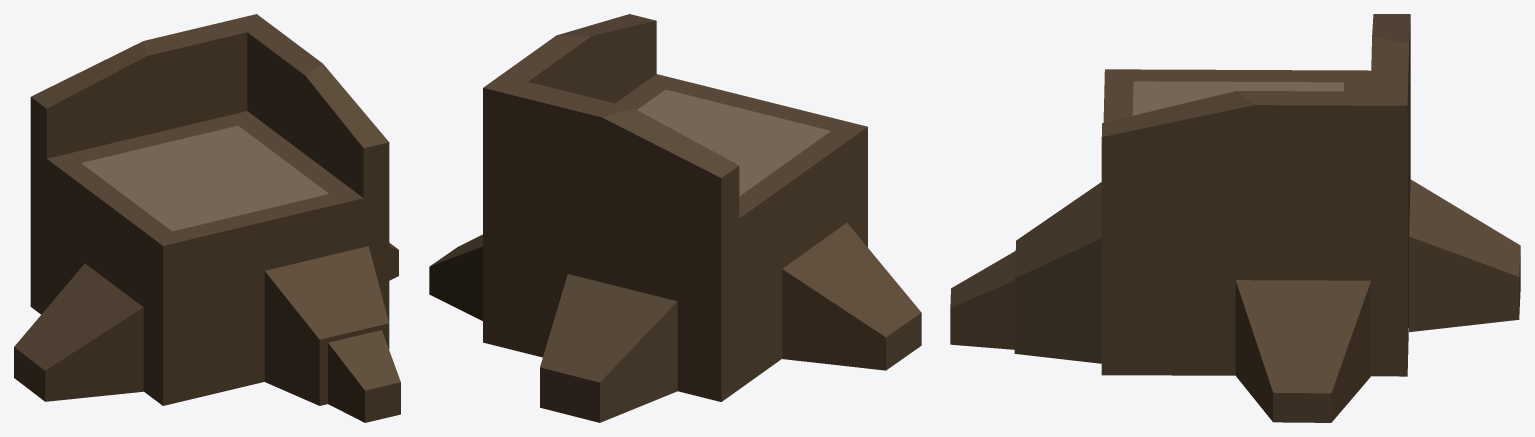
The model's file is SF_Prop_Goblin_Seat_02.fbx.
3 views of the same model, side by side, from view 1: azimuth 30°, elevation 25°; view 2: azimuth 150°, elevation 25°; view 3: azimuth 270°, elevation 25° (orthographic). The views are drawn at different scales.
Parts seen in each view (by area): view 1: SF_Prop_Goblin_Seat_02; view 2: SF_Prop_Goblin_Seat_02; view 3: SF_Prop_Goblin_Seat_02.
Part boxes in pixels (bbox=[...]): SF_Prop_Goblin_Seat_02: bbox=[14, 14, 400, 422]; SF_Prop_Goblin_Seat_02: bbox=[429, 14, 921, 422]; SF_Prop_Goblin_Seat_02: bbox=[950, 14, 1520, 422].
Size of the model in its own units: 1.62 by 0.9367 by 1.79.
